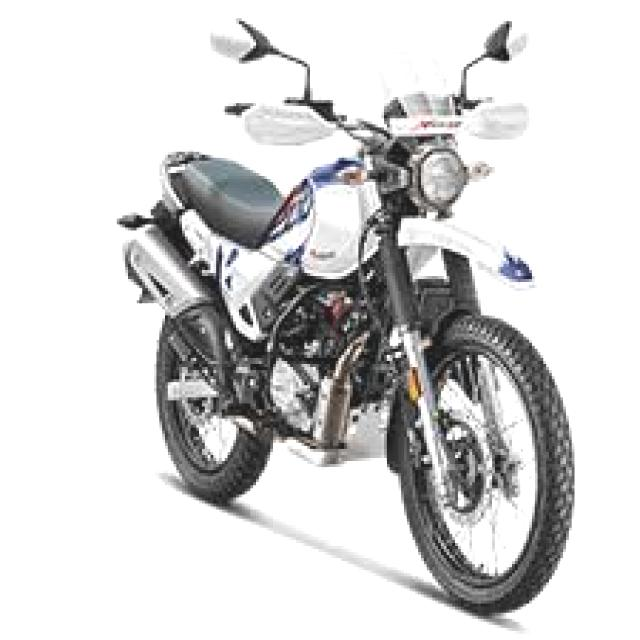MOTORCYCLE: (126, 9, 574, 616)
